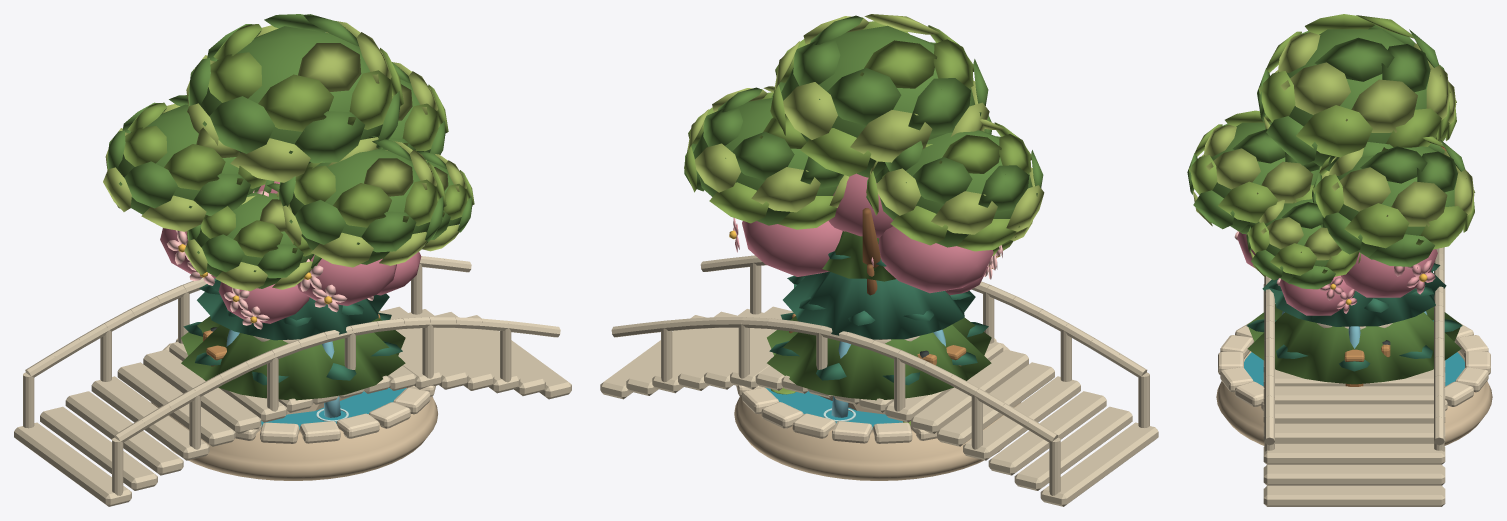
Rendered from environment-kit.glb.
3 views of the same model, side by side, from view 1: azimuth 30°, elevation 25°; view 2: azimuth 150°, elevation 25°; view 3: azimuth 270°, elevation 25° (orthographic). The views are drawn at different scales.
Parts seen in each view (by area): view 1: TREE_01__City_Leaf_V2_Palette, BRIDGE_STONE__City_Limestone.001, TREE_03__City_Leaf_V2_Palette, FOUNTAIN__City_V2_StonePalette, TREE_02__City_Leaf_V2_Palette, FOUNTAIN__City_Water_V2; view 2: TREE_01__City_Leaf_V2_Palette, BRIDGE_STONE__City_Limestone.001, TREE_03__City_Leaf_V2_Palette, FOUNTAIN__City_V2_StonePalette, TREE_02__City_Leaf_V2_Palette, FOUNTAIN__City_Water_V2, TREE_01__City_V2_Bark; view 3: TREE_01__City_Leaf_V2_Palette, BRIDGE_STONE__City_Limestone.001, TREE_03__City_Leaf_V2_Palette, FOUNTAIN__City_V2_StonePalette, TREE_02__City_Leaf_V2_Palette, FOUNTAIN__City_Water_V2.
Part boxes in pixels (box(x1,y1,x2,y2)): TREE_01__City_Leaf_V2_Palette: box(103, 14, 474, 291); BRIDGE_STONE__City_Limestone.001: box(14, 256, 571, 506); TREE_03__City_Leaf_V2_Palette: box(181, 278, 405, 400); FOUNTAIN__City_V2_StonePalette: box(151, 336, 437, 480); TREE_02__City_Leaf_V2_Palette: box(160, 181, 421, 329); FOUNTAIN__City_Water_V2: box(261, 388, 406, 429); TREE_01__City_Leaf_V2_Palette: box(684, 14, 1044, 255); BRIDGE_STONE__City_Limestone.001: box(600, 255, 1158, 506); TREE_03__City_Leaf_V2_Palette: box(767, 231, 991, 400); FOUNTAIN__City_V2_StonePalette: box(734, 336, 1021, 480); TREE_02__City_Leaf_V2_Palette: box(733, 173, 1002, 295); FOUNTAIN__City_Water_V2: box(765, 387, 902, 429); TREE_01__City_V2_Bark: box(862, 208, 880, 267); TREE_01__City_Leaf_V2_Palette: box(1187, 14, 1475, 289); BRIDGE_STONE__City_Limestone.001: box(1263, 247, 1445, 506); TREE_03__City_Leaf_V2_Palette: box(1246, 263, 1462, 384); FOUNTAIN__City_V2_StonePalette: box(1216, 323, 1492, 445); TREE_02__City_Leaf_V2_Palette: box(1234, 231, 1437, 315); FOUNTAIN__City_Water_V2: box(1244, 352, 1464, 386).
Bounding box in the file's own units: 8.47 × 7.3 × 5.04.
